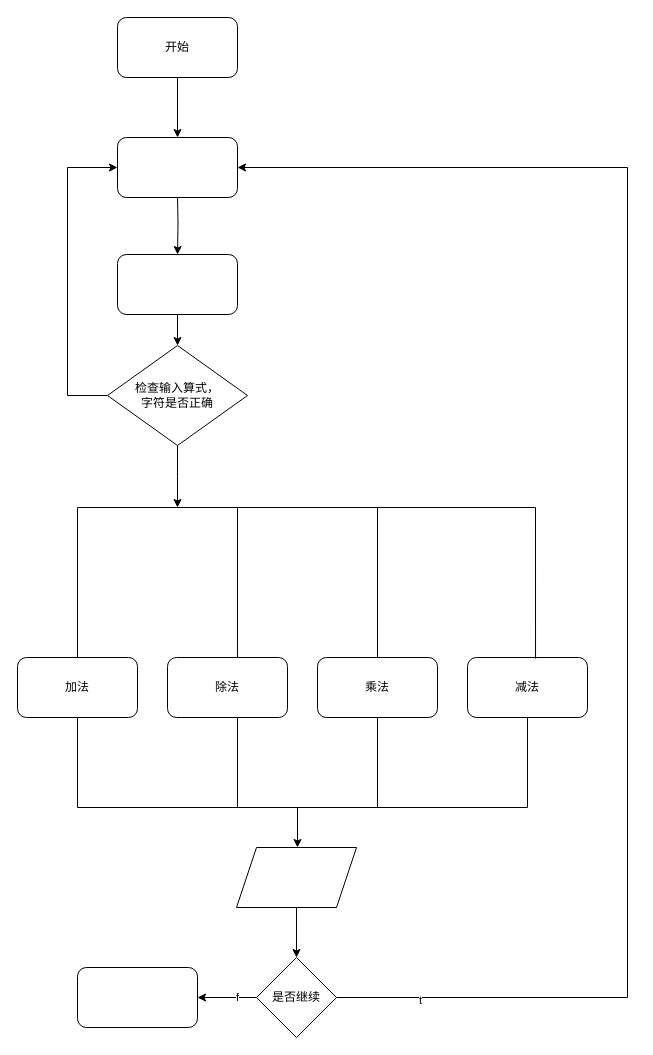
Image size: 653x1055. Some labels were removed from this diagram. The box of each missing label's shape, as (x1, y1, x2, y2) in pixels:
结束: (76, 966, 198, 1028)
输入数据: (116, 136, 238, 198)
输入运算符: (116, 254, 238, 314)
输出结果: (236, 846, 356, 908)
